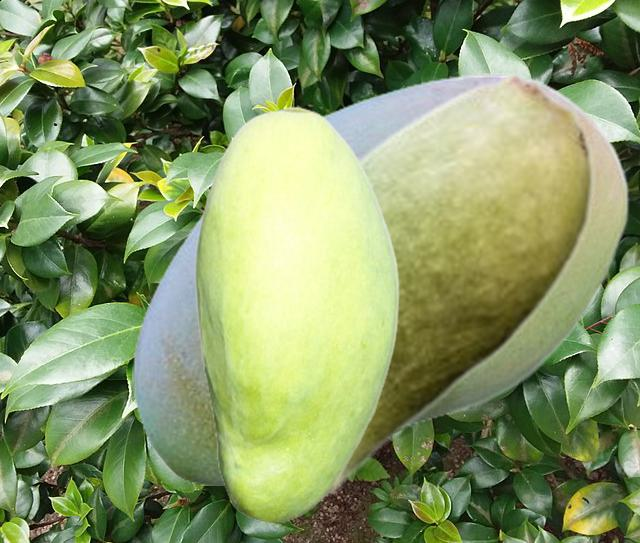green_mango: (132, 73, 629, 484), (316, 71, 594, 507), (194, 106, 398, 522)
